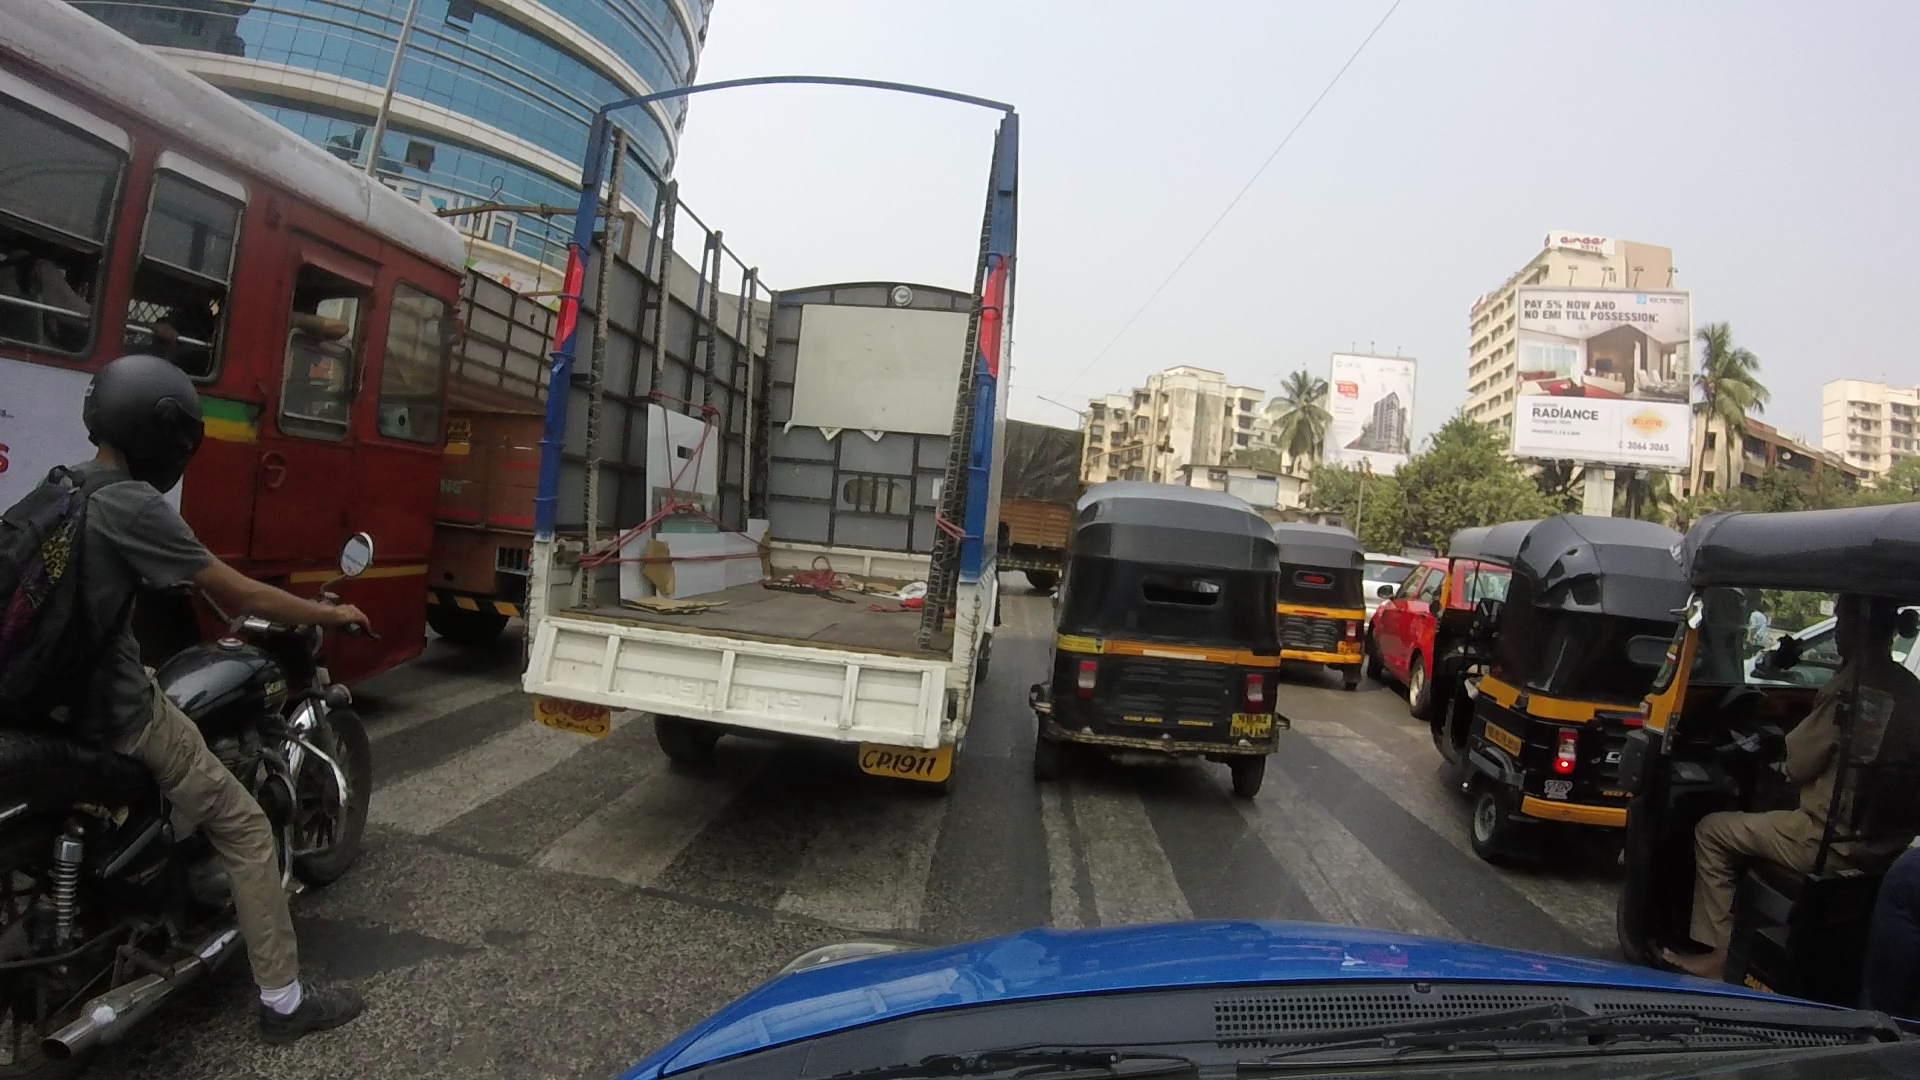bike/scooter: (11, 369, 367, 1042)
bus: (18, 1, 443, 651)
rickshaw: (1677, 520, 1916, 1022), (1425, 520, 1705, 855), (1046, 487, 1287, 800), (1244, 504, 1387, 704)
truck: (555, 80, 990, 766)
